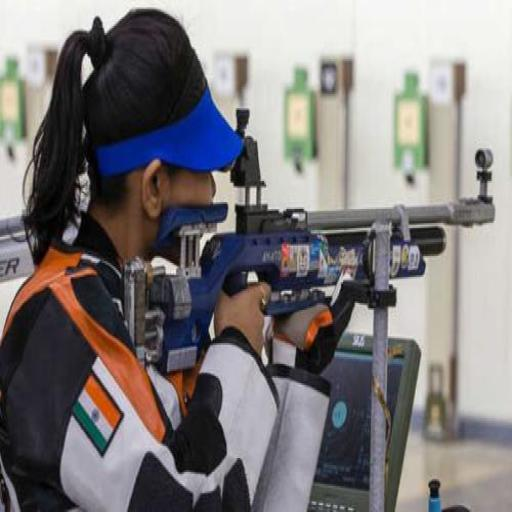shooting: (1, 44, 481, 462)
